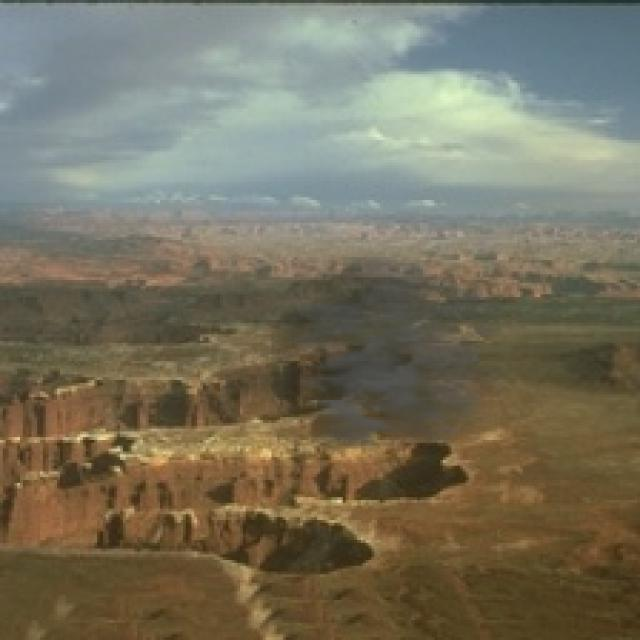Smoke: (271, 257, 526, 466)
